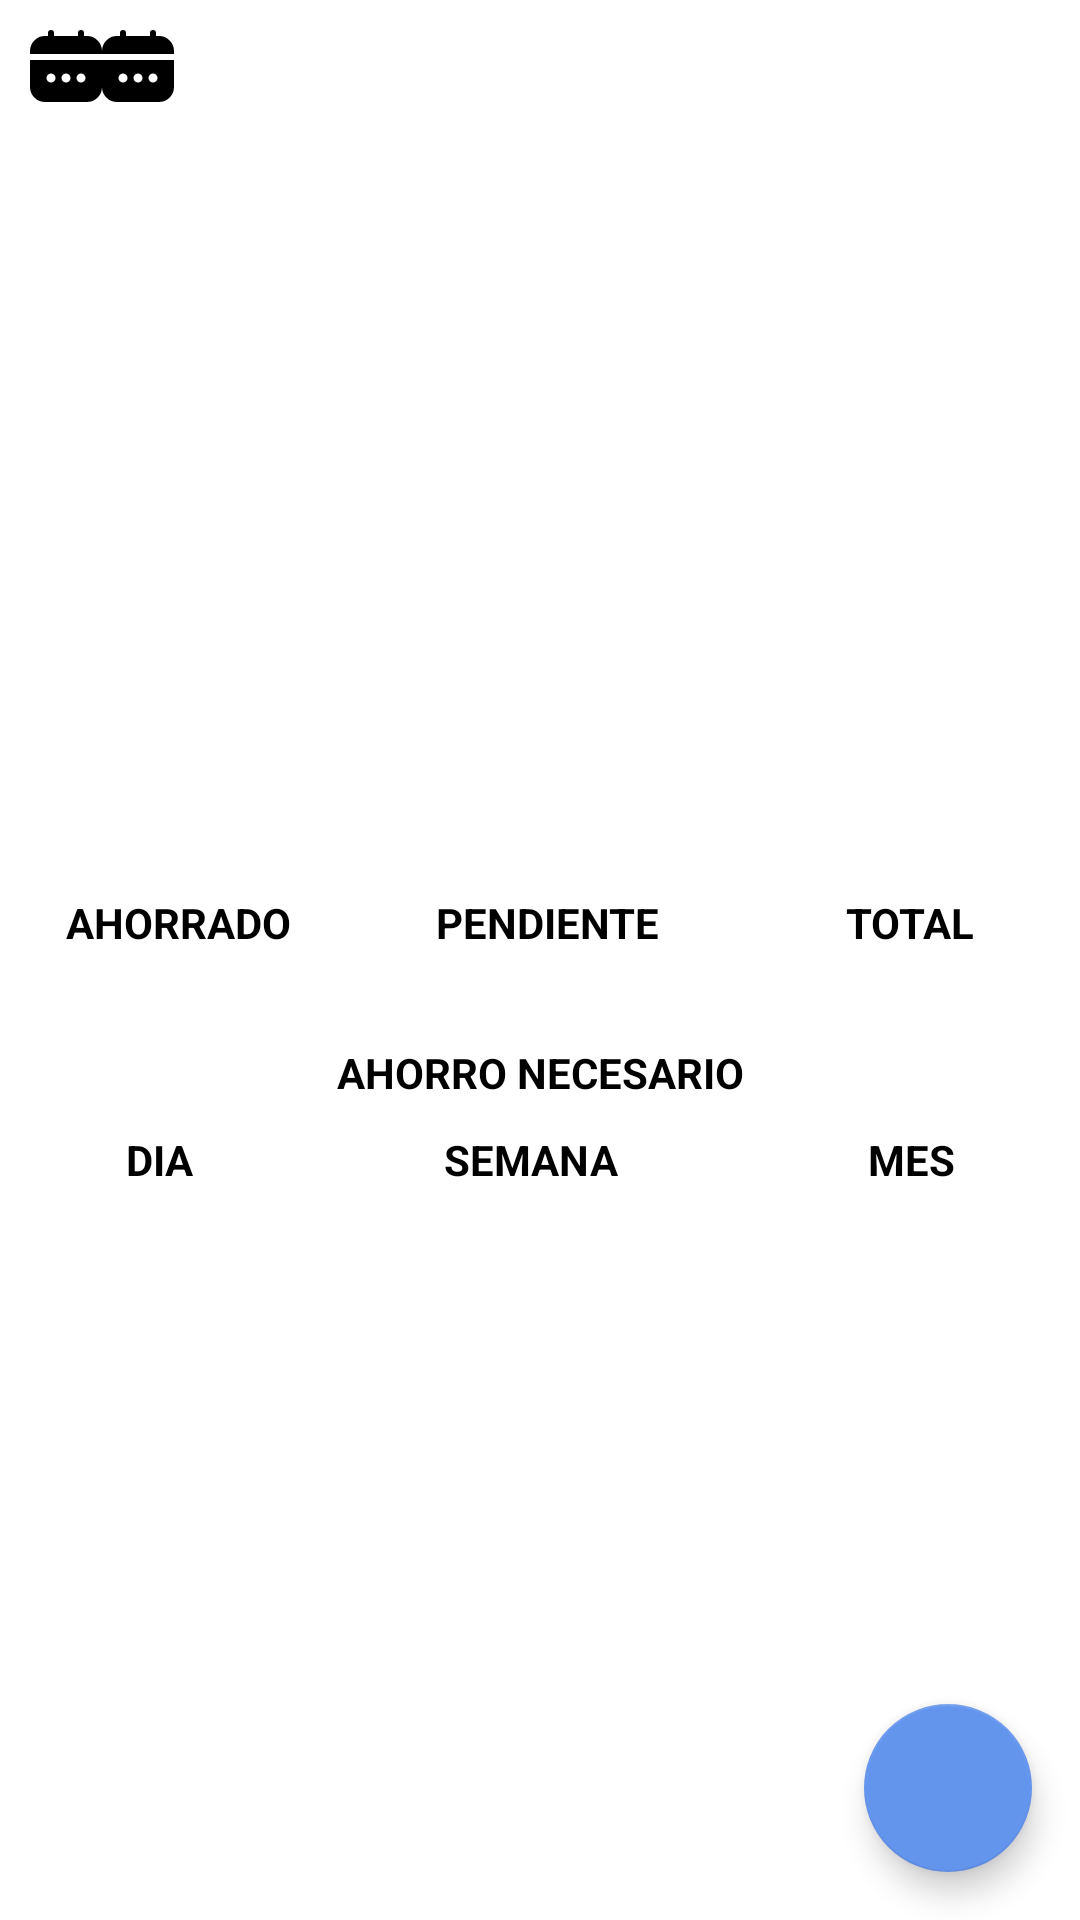

Named icons in this screenshot (1080px x 1920px) and their bounding boxes, (x1, y1, x2, y2):
calendario: (30, 30, 102, 102), (102, 30, 174, 102)
